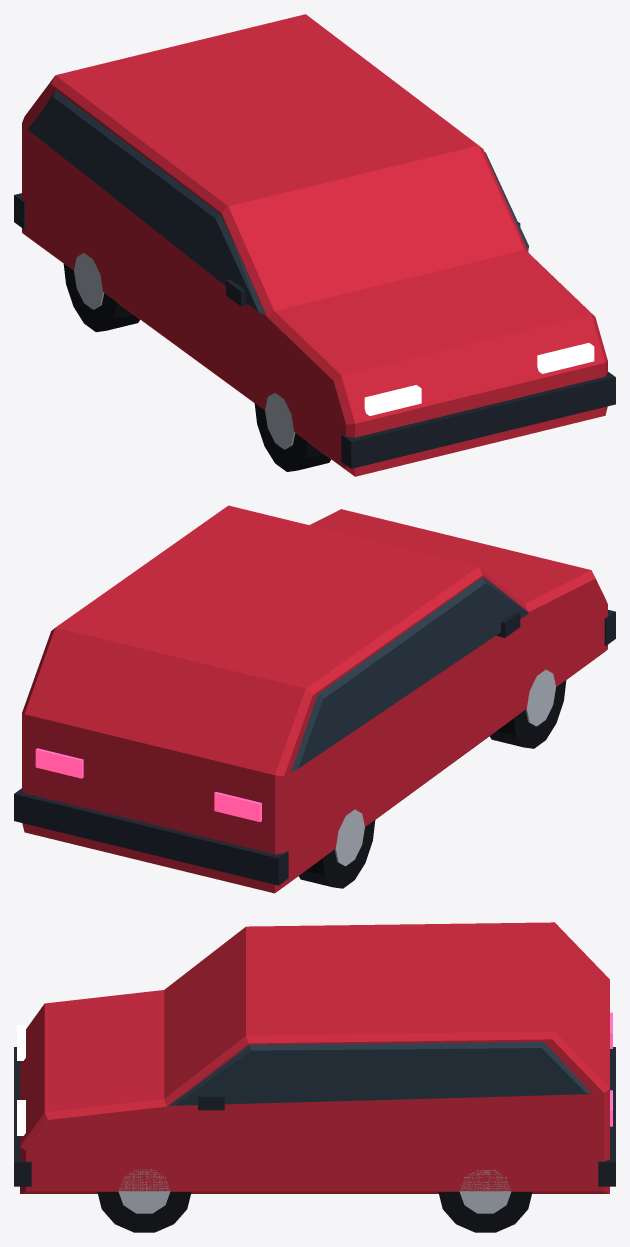
Rendered from car_hatch_red.glb.
The picture shows the model from 3 angles, top to bottom: view 1: azimuth 30°, elevation 25°; view 2: azimuth 150°, elevation 25°; view 3: azimuth 270°, elevation 25°; orthographic projection. The views are drawn at different scales.
Parts seen in each view (by area): view 1: body; view 2: body; view 3: body.
Part boxes in pixels (x1,y1,x2,y2): body: [14, 14, 615, 476]; body: [14, 505, 615, 893]; body: [14, 922, 615, 1232].
Size of the model in its own units: 1.94 by 1.48 by 4.06.
